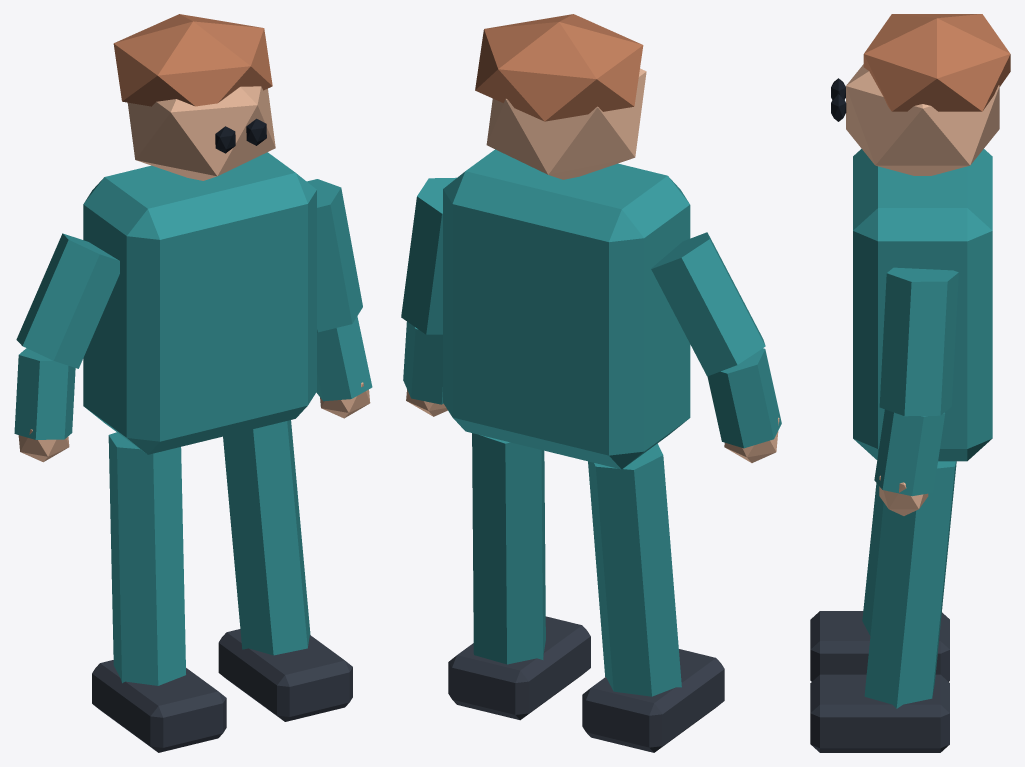
The model's file is npcs_033_seed11.glb.
The picture shows the model from 3 angles, left to right: view 1: azimuth 30°, elevation 25°; view 2: azimuth 150°, elevation 25°; view 3: azimuth 270°, elevation 25°; orthographic projection. The views are drawn at different scales.
Visible parts, largest first — view 1: npcs_033_seed11; view 2: npcs_033_seed11; view 3: npcs_033_seed11.
Boxes of the visible parts, x1=… form: npcs_033_seed11: x1=14, y1=14, x2=372, y2=752; npcs_033_seed11: x1=401, y1=14, x2=781, y2=752; npcs_033_seed11: x1=810, y1=14, x2=1010, y2=752.
Size of the model in its own units: 0.8824 by 1.61 by 0.4239.
